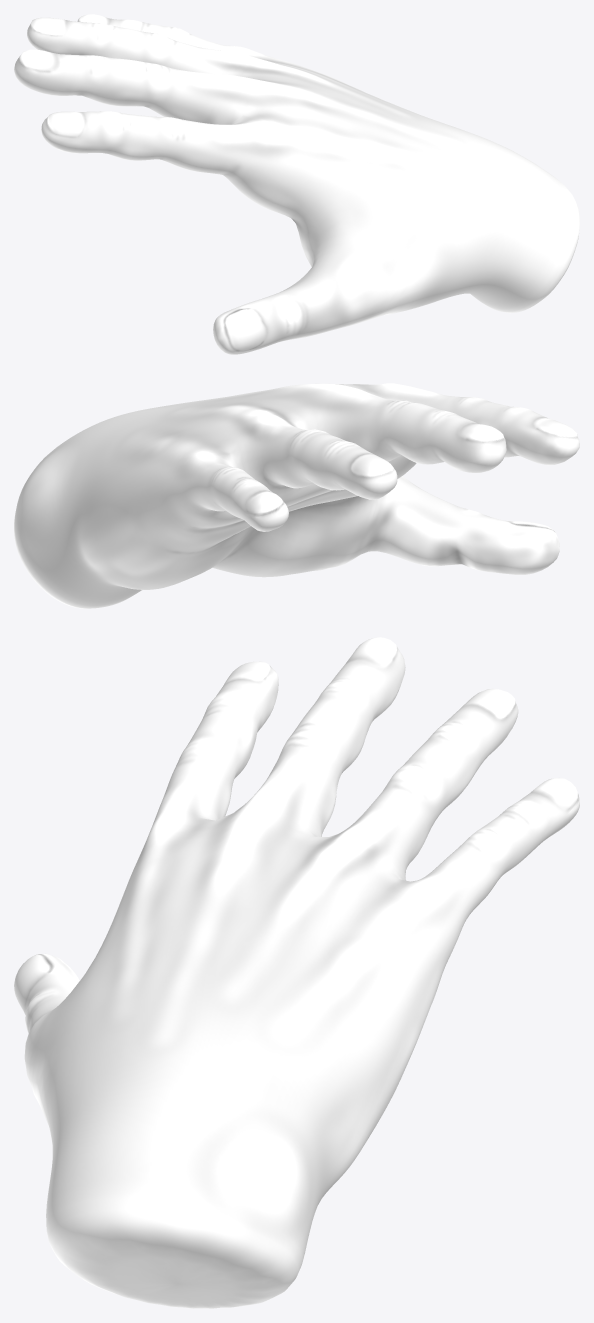
File: right-hand.gltf
The picture shows the model from 3 angles, top to bottom: view 1: azimuth 30°, elevation 25°; view 2: azimuth 150°, elevation 25°; view 3: azimuth 270°, elevation 25°; orthographic projection. The views are drawn at different scales.
Visible parts, largest first — view 1: Group16023.002; view 2: Group16023.002; view 3: Group16023.002.
Boxes of the visible parts, x1=… form: Group16023.002: x1=14, y1=14, x2=579, y2=354; Group16023.002: x1=14, y1=383, x2=579, y2=608; Group16023.002: x1=14, y1=637, x2=579, y2=1308.
Bounding box in the file's own units: 0.8014 × 0.4538 × 0.5762.
1 material, 1 textured.
